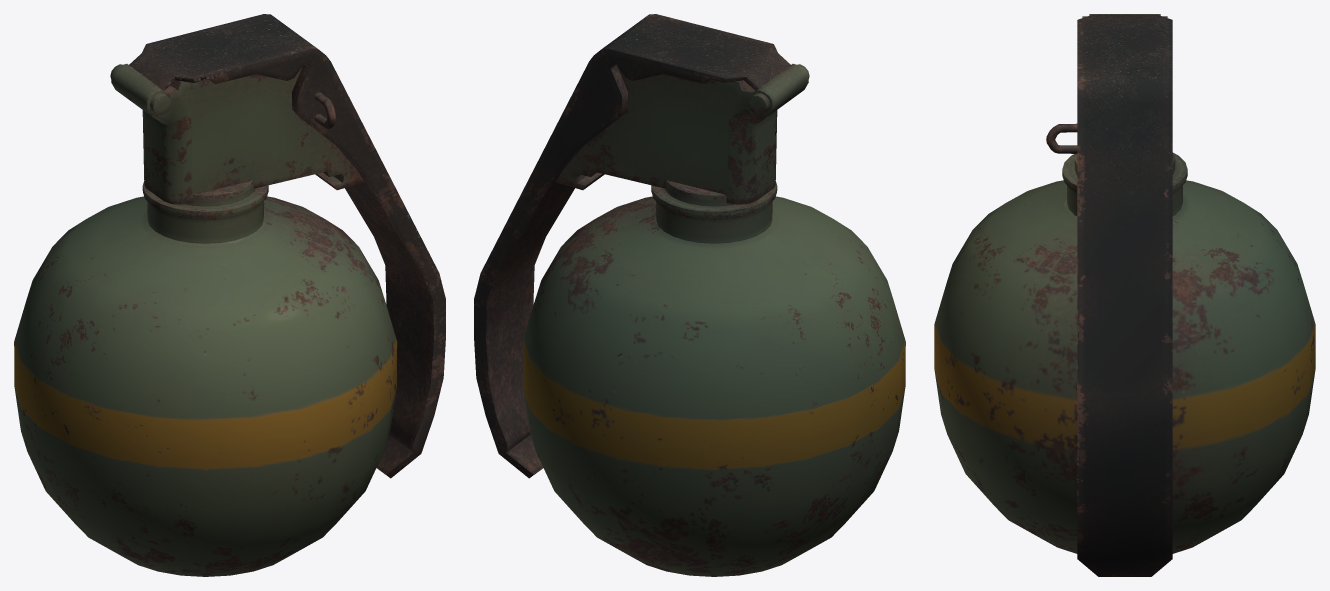
File: Grenade.fbx
3 views of the same model, side by side, from view 1: azimuth 30°, elevation 25°; view 2: azimuth 150°, elevation 25°; view 3: azimuth 270°, elevation 25° (orthographic).
Parts seen in each view (by area): view 1: grenade; view 2: grenade; view 3: grenade.
Part boxes in pixels (x1,y1,x2,y2): grenade: (14, 14, 445, 576); grenade: (474, 14, 905, 576); grenade: (934, 14, 1315, 576).
Bounding box in the file's own units: 13.49 × 17.04 × 11.71.
1 material, 1 textured.
